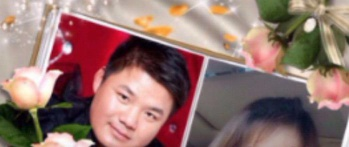ImgView: (1, 1, 348, 146)
